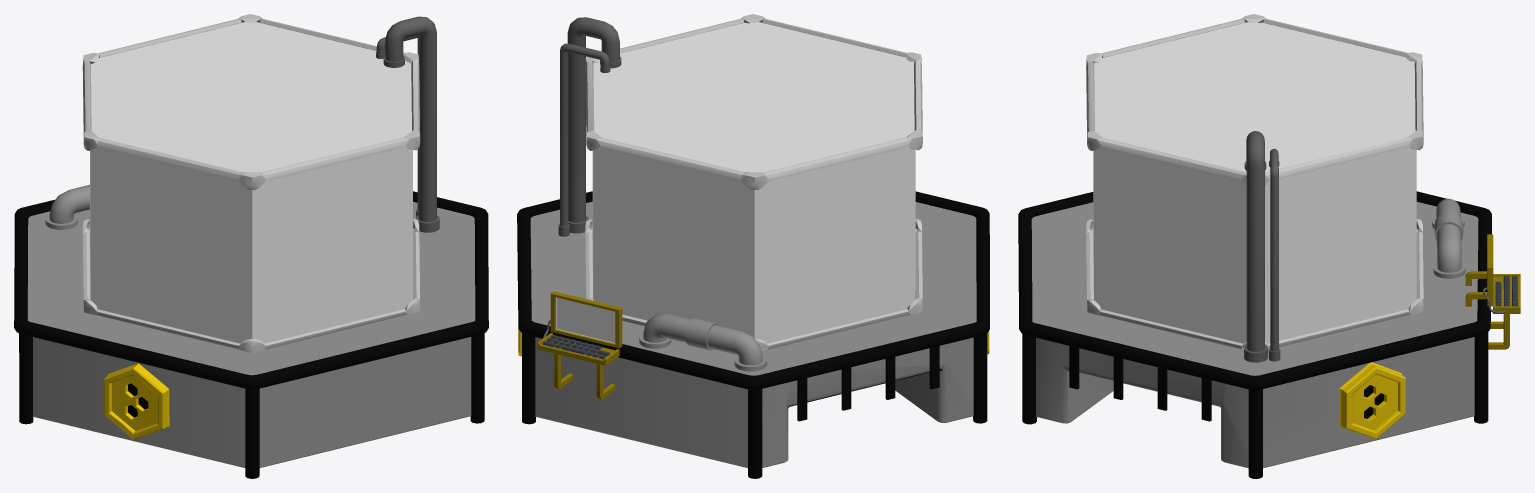
The model's file is REZERVuar (2).fbx.
3 views of the same model, side by side, from view 1: azimuth 30°, elevation 25°; view 2: azimuth 150°, elevation 25°; view 3: azimuth 270°, elevation 25° (orthographic).
Visible parts, largest first — view 1: резервуар, стенд, рамкастенд, рамканиз, Cylinder.017, Cylinder.019, колонны, Cylinder.016; view 2: резервуар, стенд, рамкастенд, рамканиз, Cylinder.017, ноут, колонны, Cylinder.016, клавиатура; view 3: резервуар, стенд, рамкастенд, рамканиз, Cylinder.017, Cylinder.019, колонны, Cylinder.016, ноут, клавиатура.
Part boxes in pixels (x1,y1,x2,y2): резервуар: (90, 22, 412, 343); стенд: (27, 201, 475, 467); рамкастенд: (14, 191, 488, 389); рамканиз: (82, 14, 420, 352); Cylinder.017: (376, 16, 439, 232); Cylinder.019: (104, 363, 169, 439); колонны: (19, 333, 484, 478); Cylinder.016: (45, 184, 89, 229); резервуар: (592, 22, 915, 343); стенд: (530, 201, 976, 467); рамкастенд: (517, 191, 989, 421); рамканиз: (585, 14, 922, 351); Cylinder.017: (558, 17, 621, 236); ноут: (537, 291, 622, 399); колонны: (522, 333, 987, 478); Cylinder.016: (639, 313, 766, 371); клавиатура: (542, 334, 609, 359); резервуар: (1093, 22, 1416, 343); стенд: (1031, 202, 1478, 468); рамкастенд: (1018, 191, 1491, 421); рамканиз: (1086, 14, 1423, 350); Cylinder.017: (1244, 131, 1280, 362); Cylinder.019: (1339, 362, 1405, 439); колонны: (1022, 332, 1488, 478); Cylinder.016: (1432, 198, 1465, 278); ноут: (1465, 234, 1520, 349); клавиатура: (1495, 275, 1517, 306).
Size of the model in its own units: 716 by 446 by 661.
